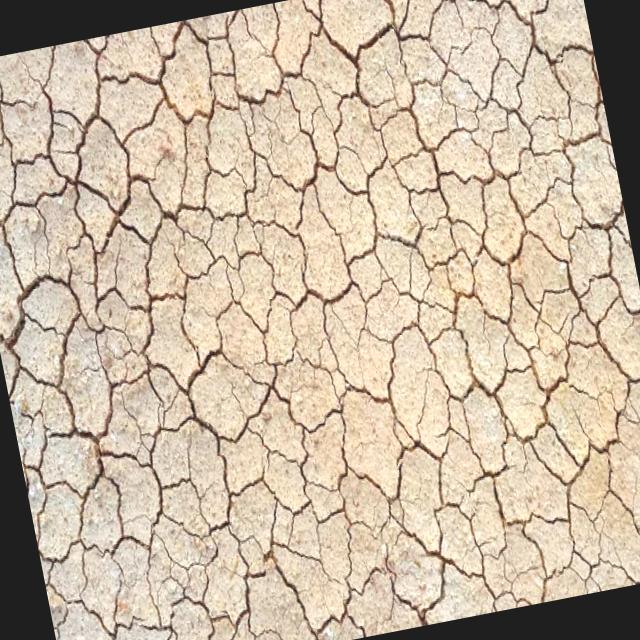suelo_seco: (61, 54, 526, 607)
